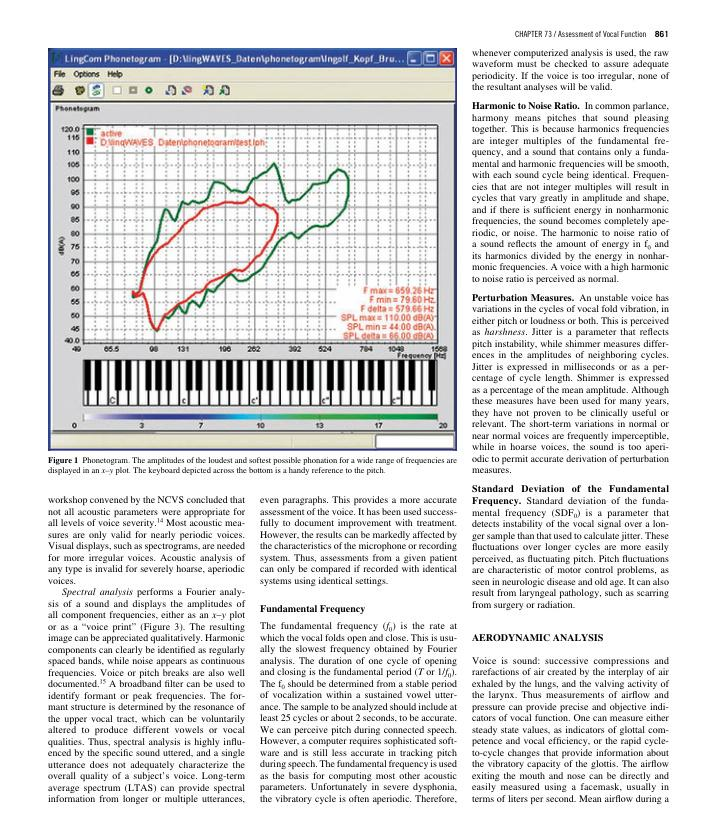caption: (46, 454, 459, 477)
header: (514, 29, 647, 38)
image: (48, 46, 458, 452)
section-heading: (471, 632, 604, 643)
sub-section-heading: (471, 483, 671, 494), (259, 604, 366, 615), (471, 101, 580, 110), (471, 293, 574, 302), (471, 495, 522, 507)
text: (46, 495, 246, 806), (471, 101, 671, 286), (258, 621, 458, 806), (471, 292, 670, 474), (471, 655, 670, 806), (470, 483, 670, 611), (258, 494, 458, 588), (471, 48, 671, 94)
